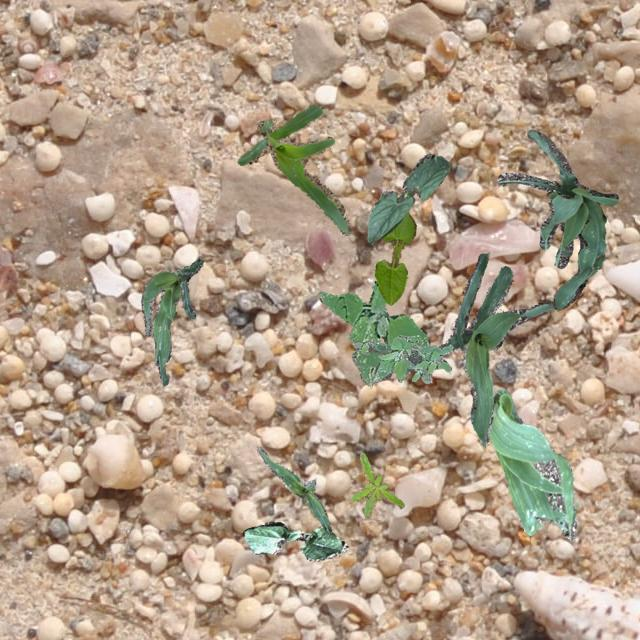crop: (438, 252, 552, 446), (497, 128, 618, 310), (236, 104, 350, 234), (488, 388, 576, 540), (140, 258, 202, 384), (366, 152, 448, 244), (256, 446, 331, 532), (242, 520, 348, 560), (374, 210, 416, 304)
weed: (317, 278, 428, 386), (352, 334, 452, 382), (349, 452, 404, 516)
